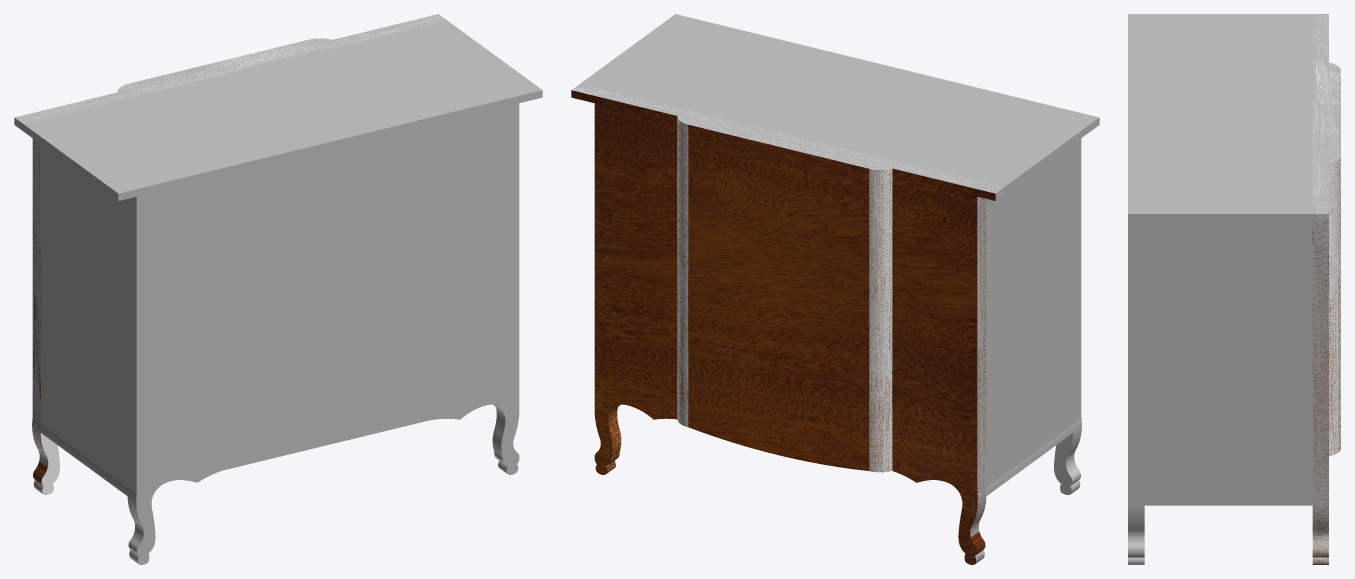
3 views of the same model, side by side, from view 1: azimuth 30°, elevation 25°; view 2: azimuth 150°, elevation 25°; view 3: azimuth 270°, elevation 25° (orthographic). The views are drawn at different scales.
Visible parts, largest first — view 1: mesh1_mesh1-geometry, mesh3_mesh3-geometry; view 2: mesh3_mesh3-geometry, mesh1_mesh1-geometry; view 3: mesh1_mesh1-geometry, mesh3_mesh3-geometry.
Boxes of the visible parts, x1,y1,x2,y2 form: mesh1_mesh1-geometry: (23, 20, 542, 564); mesh3_mesh3-geometry: (14, 14, 446, 494); mesh3_mesh3-geometry: (571, 84, 1003, 564); mesh1_mesh1-geometry: (580, 14, 1099, 495); mesh1_mesh1-geometry: (1128, 14, 1312, 564); mesh3_mesh3-geometry: (1312, 14, 1340, 564).
Size of the model in its own units: 0.7208 by 0.6126 by 0.3243.
